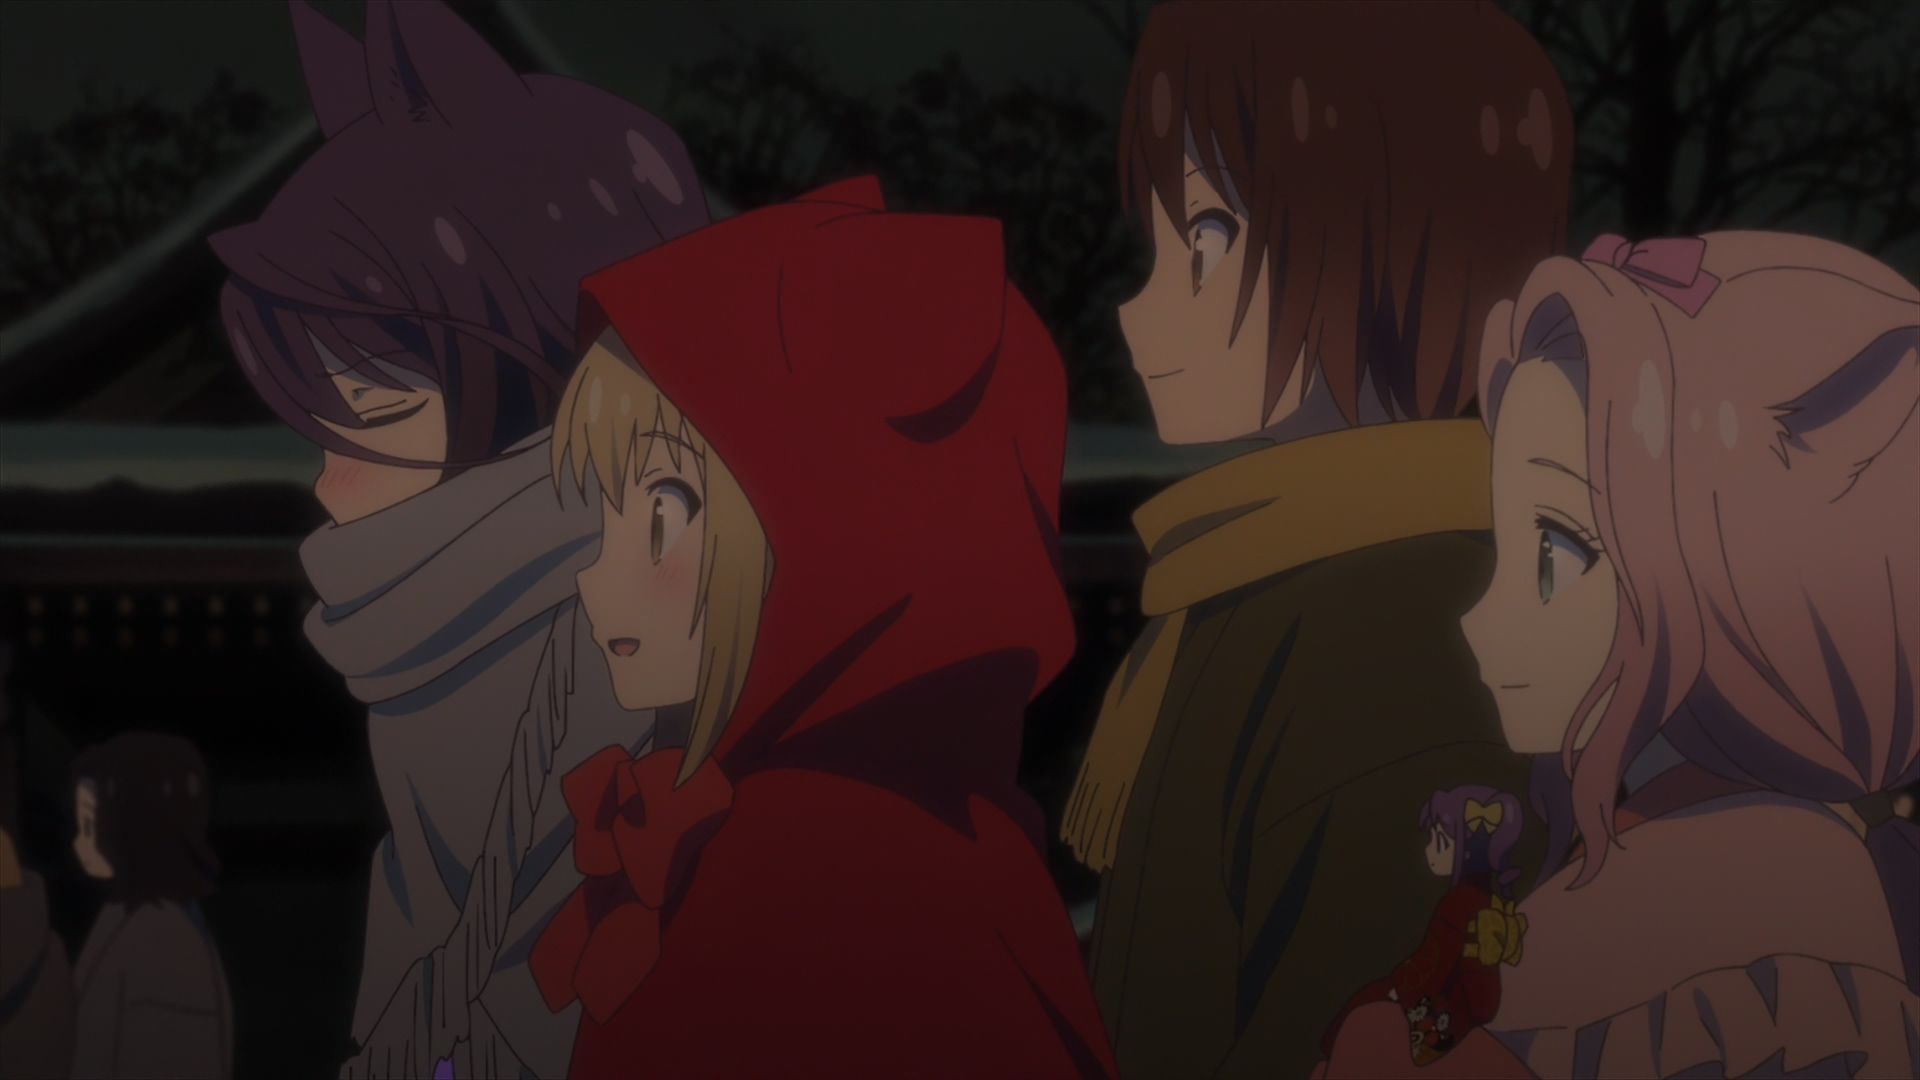其他: (65, 735, 233, 1080)
枣: (1058, 1, 1568, 1080)
柚: (527, 175, 1112, 1080)
皋: (207, 1, 707, 1080)
莲: (1311, 231, 1920, 1080)
阿菊: (1352, 785, 1530, 1069)
